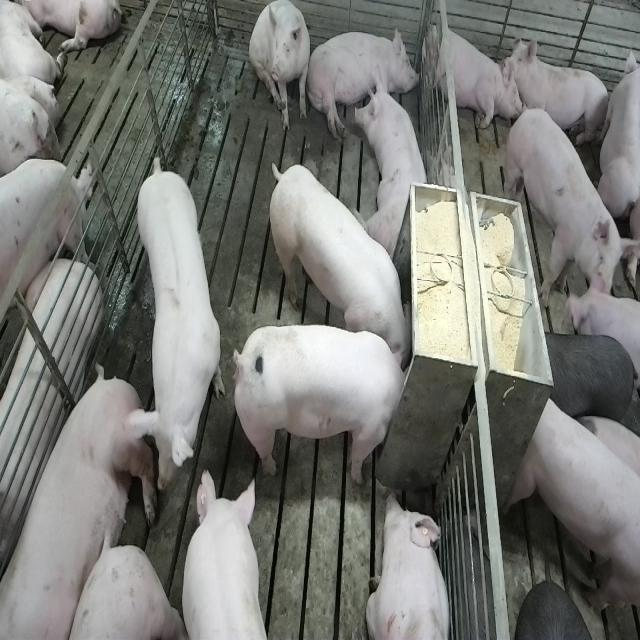Feeding: (264, 160, 412, 368), (228, 322, 410, 484)
Lateral_lying: (4, 366, 165, 640), (0, 257, 102, 588), (306, 24, 421, 140)
Sitting: (249, 2, 312, 134)
Standing: (131, 154, 222, 484), (509, 393, 638, 617), (502, 110, 629, 312), (0, 162, 93, 345), (177, 467, 270, 640), (541, 330, 636, 428)
Sternal_lying: (356, 75, 432, 259), (366, 490, 453, 640), (505, 35, 609, 149), (424, 18, 516, 133)
